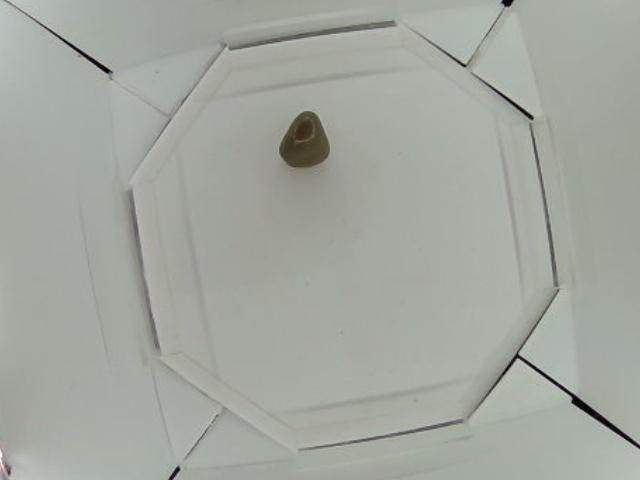Pebble: (275, 107, 328, 170)
